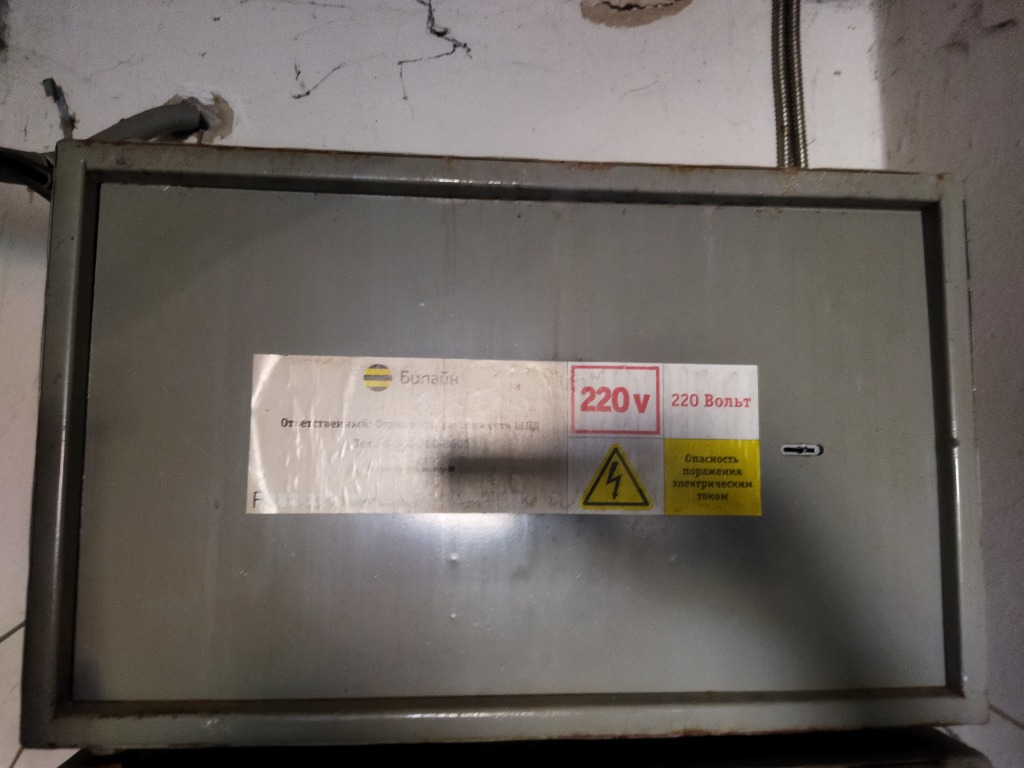e2-6u: (15, 135, 997, 751)
